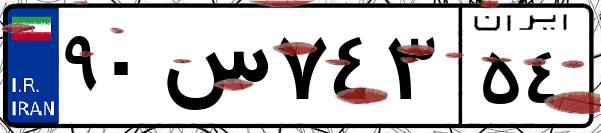0: (110, 28, 158, 98)
3: (385, 28, 445, 110)
4: (330, 28, 385, 110), (525, 38, 570, 115)
5: (475, 38, 525, 113)
7: (270, 28, 330, 110)
9: (57, 26, 110, 100)
س: (158, 20, 270, 120)
